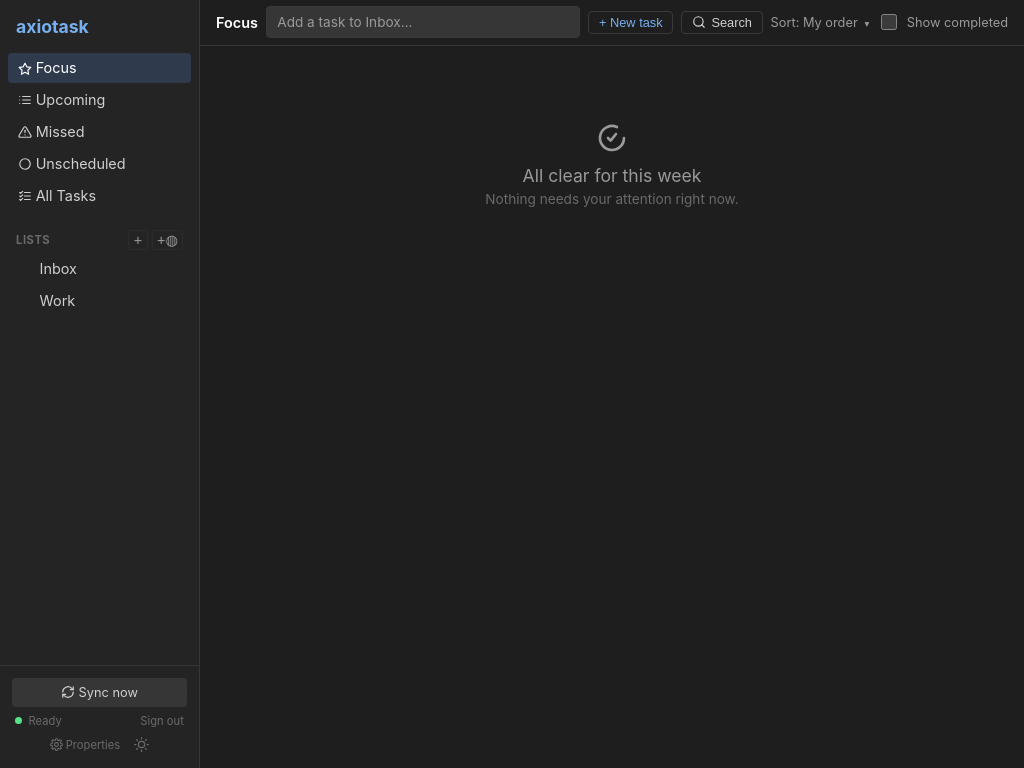
Scenario: GH#3: Sync Pull › disables Sync Now button while syncing
Click the button "Sync now" at coordinates (100, 693), box [12,678,187,707]
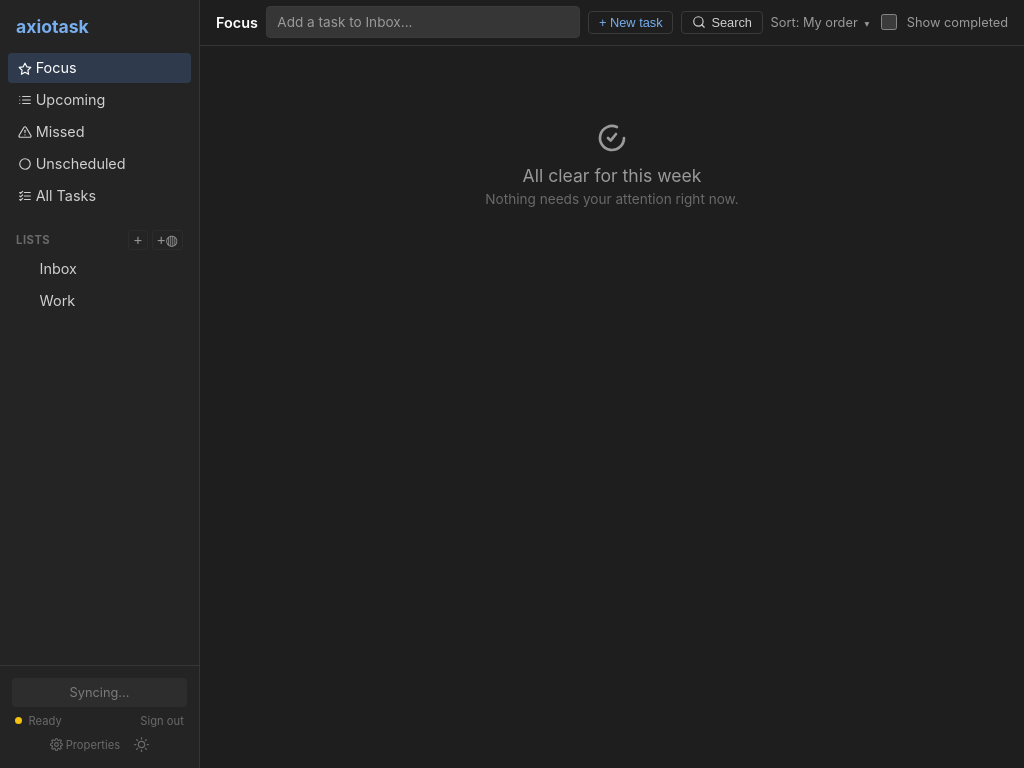
expect the button "Syncing..." is disabled: met, box [12,678,187,707]
